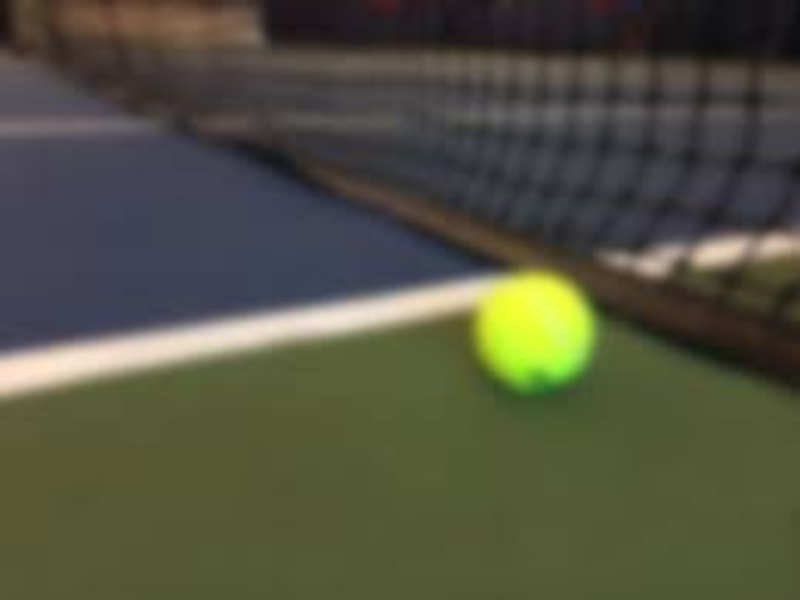tennis ball: (456, 259, 607, 421)
